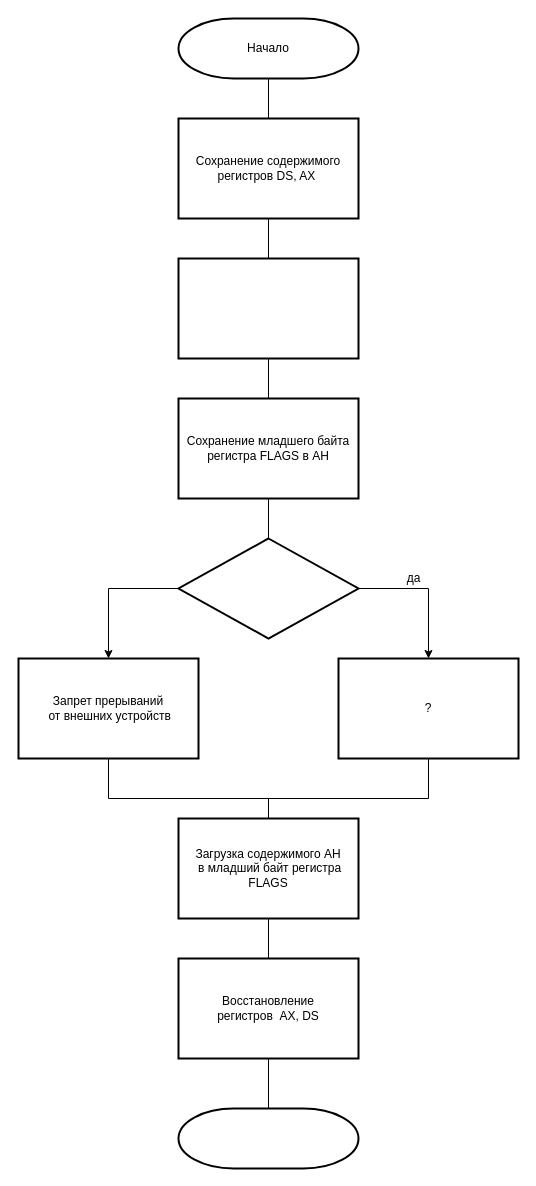
Some shapes in this 536 by 1186 pixel diagram are drawn without their labels. The shapes that lost their labels are listed below. From the top down, each one's centre as x and y in pixels, then its label:
At point (268, 308): "Загрузка в регистр DS 40h".
At point (268, 588): "Флаг DF == 0 и старший бит IOPL == 0".
At point (268, 1138): "Выход".
